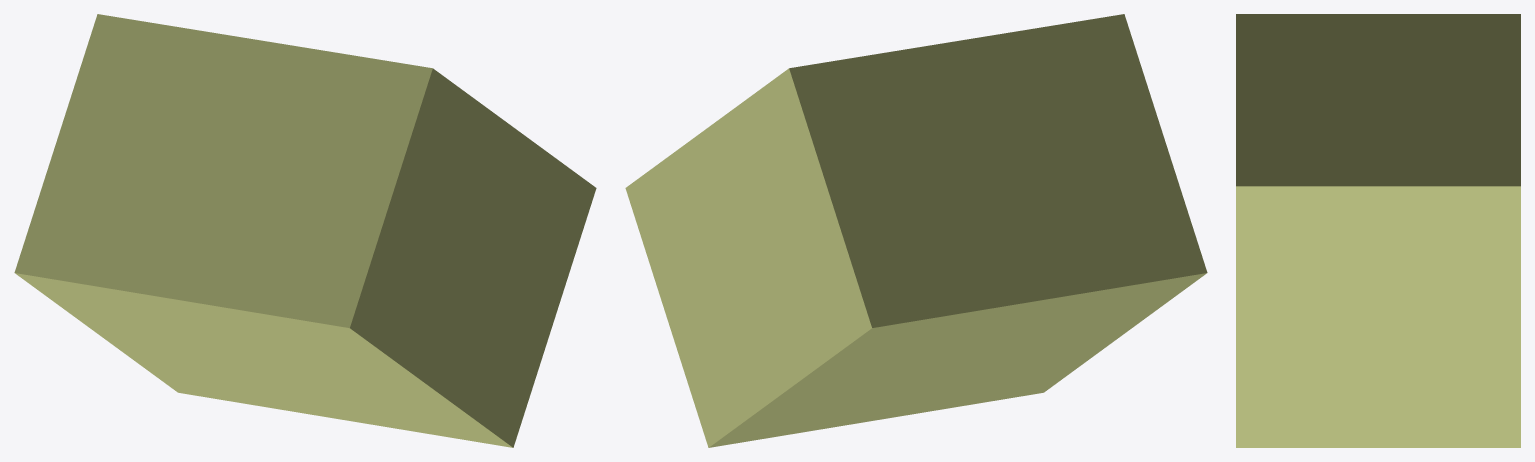
3 views of the same model, side by side, from view 1: azimuth 30°, elevation 25°; view 2: azimuth 150°, elevation 25°; view 3: azimuth 270°, elevation 25° (orthographic). The views are drawn at different scales.
Parts seen in each view (by area): view 1: 0_1_3_2_2_1_1_2_0_1; view 2: 0_1_3_2_2_1_1_2_0_1; view 3: 0_1_3_2_2_1_1_2_0_1.
Boxes of the visible parts, bbox=[...] form: 0_1_3_2_2_1_1_2_0_1: bbox=[14, 14, 596, 447]; 0_1_3_2_2_1_1_2_0_1: bbox=[625, 14, 1207, 447]; 0_1_3_2_2_1_1_2_0_1: bbox=[1236, 14, 1520, 447].
Bounding box in the file's own units: 8.86 × 7.6 × 6.
